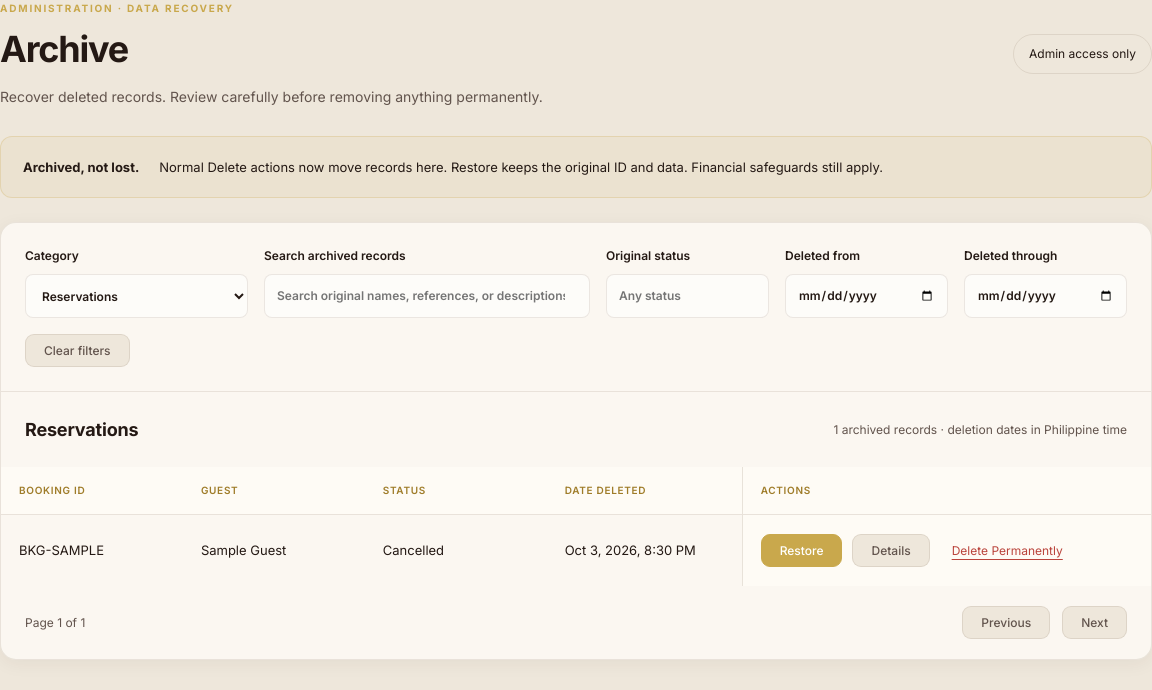
Test: double click submits only one restore while saving
Click the button "Restore". click: (802,551)
box: [761, 534, 842, 568]
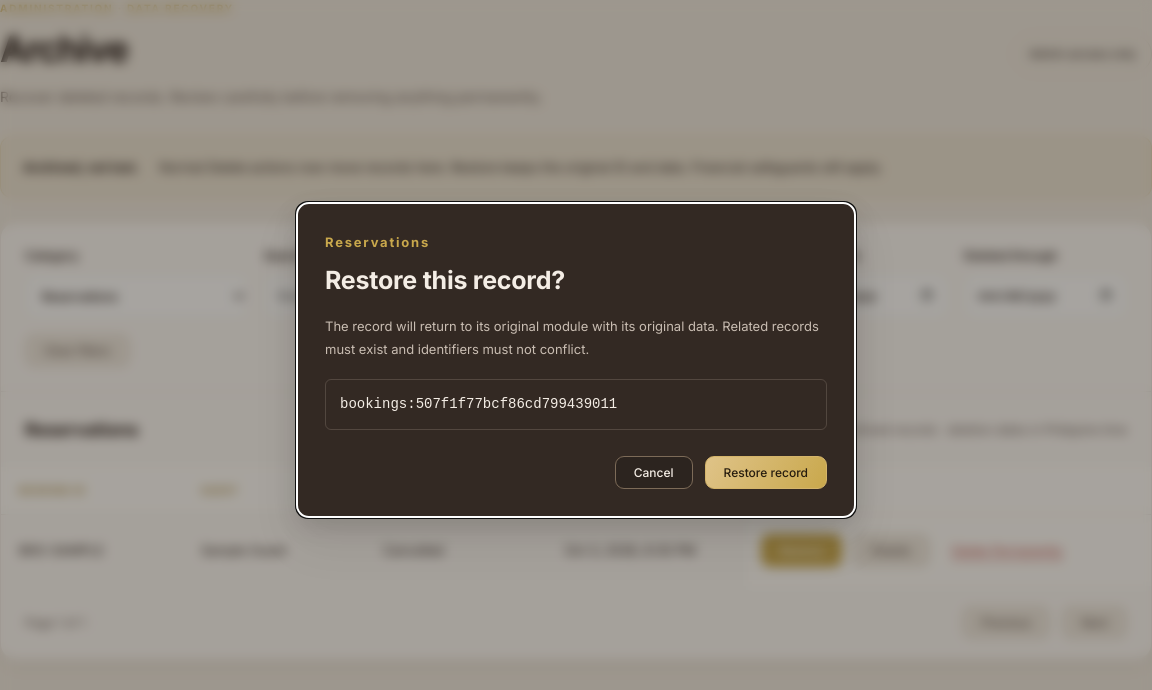
Click the button "Restore record". click: (766,472)
box: [704, 456, 827, 489]
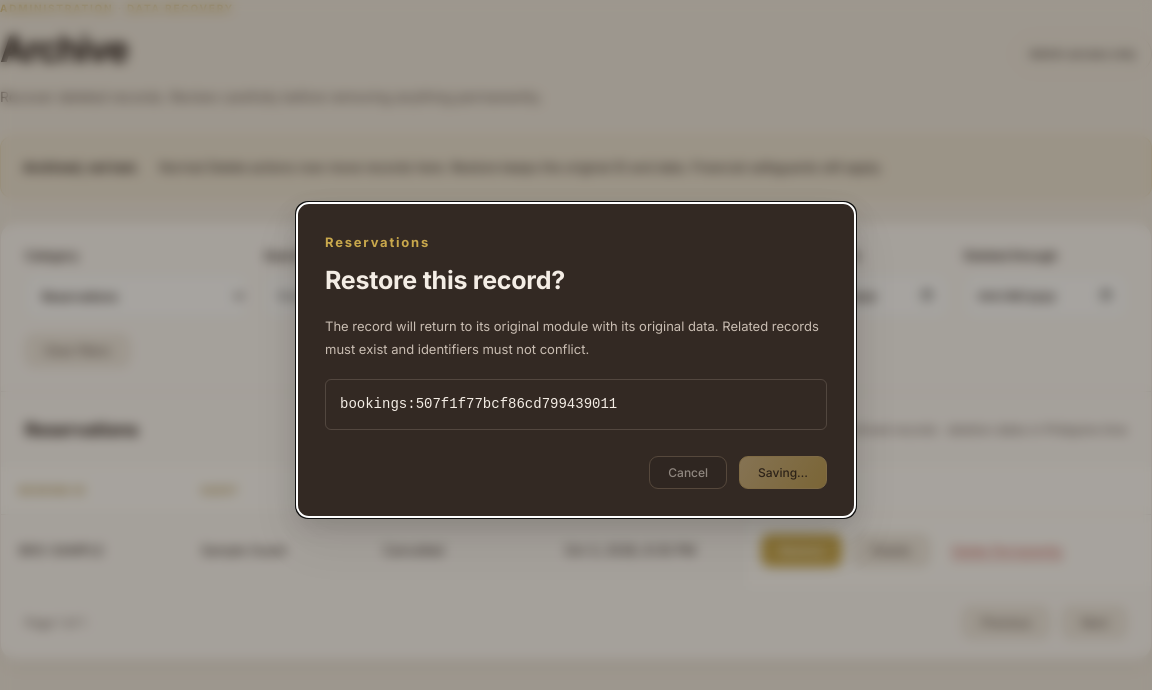
Click the button named "Restore record". click: (783,472)
box: [739, 456, 827, 489]
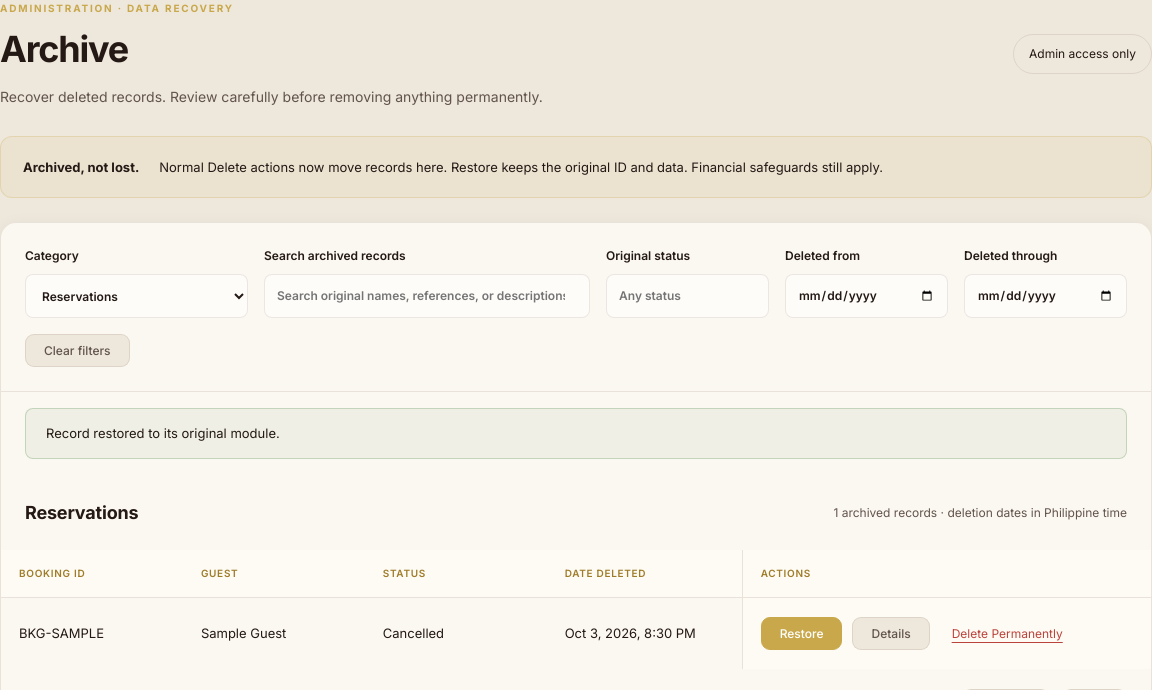
Result: the text "Record restored to its original module." is shown at [25, 408, 1127, 459]
